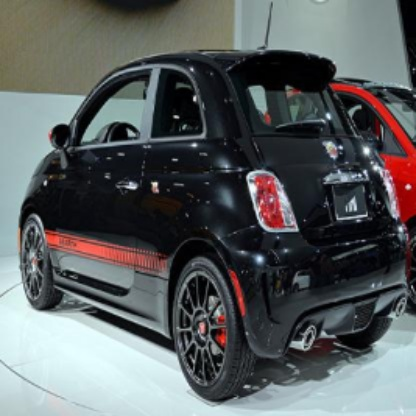Vehicle: (17, 5, 412, 405)
